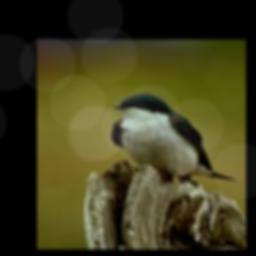Swallow: (112, 94, 236, 182)
